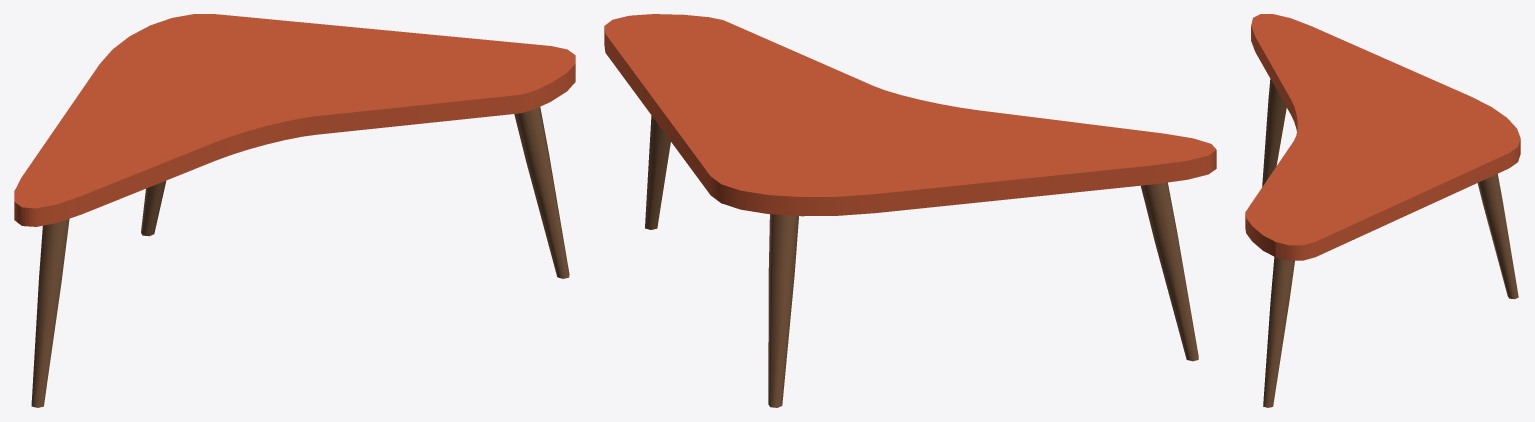
The model's file is Orange Coffee Table.fbx.
3 views of the same model, side by side, from view 1: azimuth 30°, elevation 25°; view 2: azimuth 150°, elevation 25°; view 3: azimuth 270°, elevation 25° (orthographic). The views are drawn at different scales.
Visible parts, largest first — view 1: Plane.046, Plane.045; view 2: Plane.046, Plane.045; view 3: Plane.046, Plane.045.
Boxes of the visible parts, x1,y1,x2,y2 form: Plane.046: (14, 14, 575, 226); Plane.045: (31, 107, 569, 407); Plane.046: (604, 14, 1216, 216); Plane.045: (645, 115, 1198, 407); Plane.046: (1245, 14, 1520, 260); Plane.045: (1262, 79, 1518, 407).
Bounding box in the file's own units: 6440 × 3241 × 2211.
